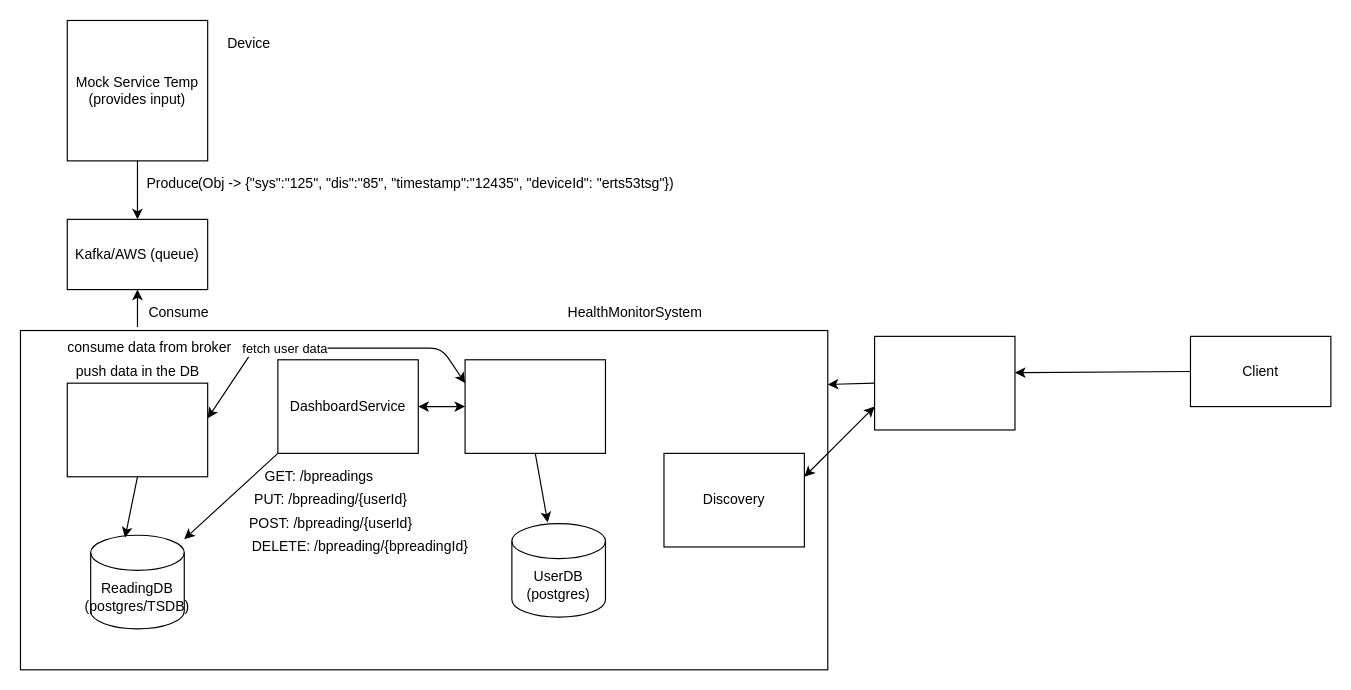
The diagram is 1351 pixels wide and 690 high, and some of its shapes have lost their labels. Here are the shapes that lost their labels. From the top down, the centre of each, then its label:
point (944, 382): LB
point (534, 406): AuthService (user info, device info, login info, etc)
point (137, 429): DataProcessor
